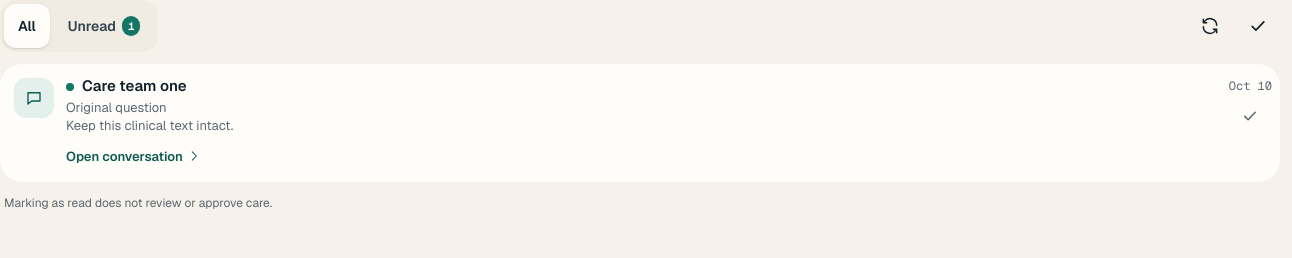
Scenario: patient notification centre › tells the patient when mark-all skipped items that are no longer available
Expected: the heading "Care team one" is shown, [82, 76, 187, 95]
What coordinates should you click on to do the following:
click the button named "Mark displayed as read"
I would click on:
 (1258, 26)
Its box is [1236, 4, 1280, 48].
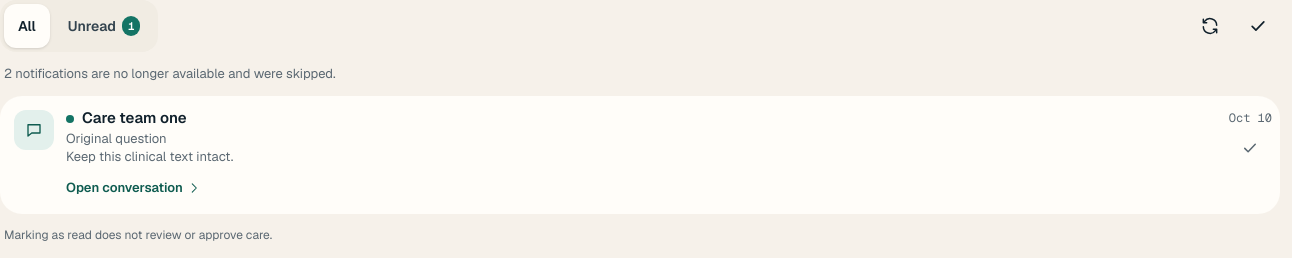
Expected: the text "2 notifications are no longer available and were skipped." is shown, [4, 65, 336, 82]
